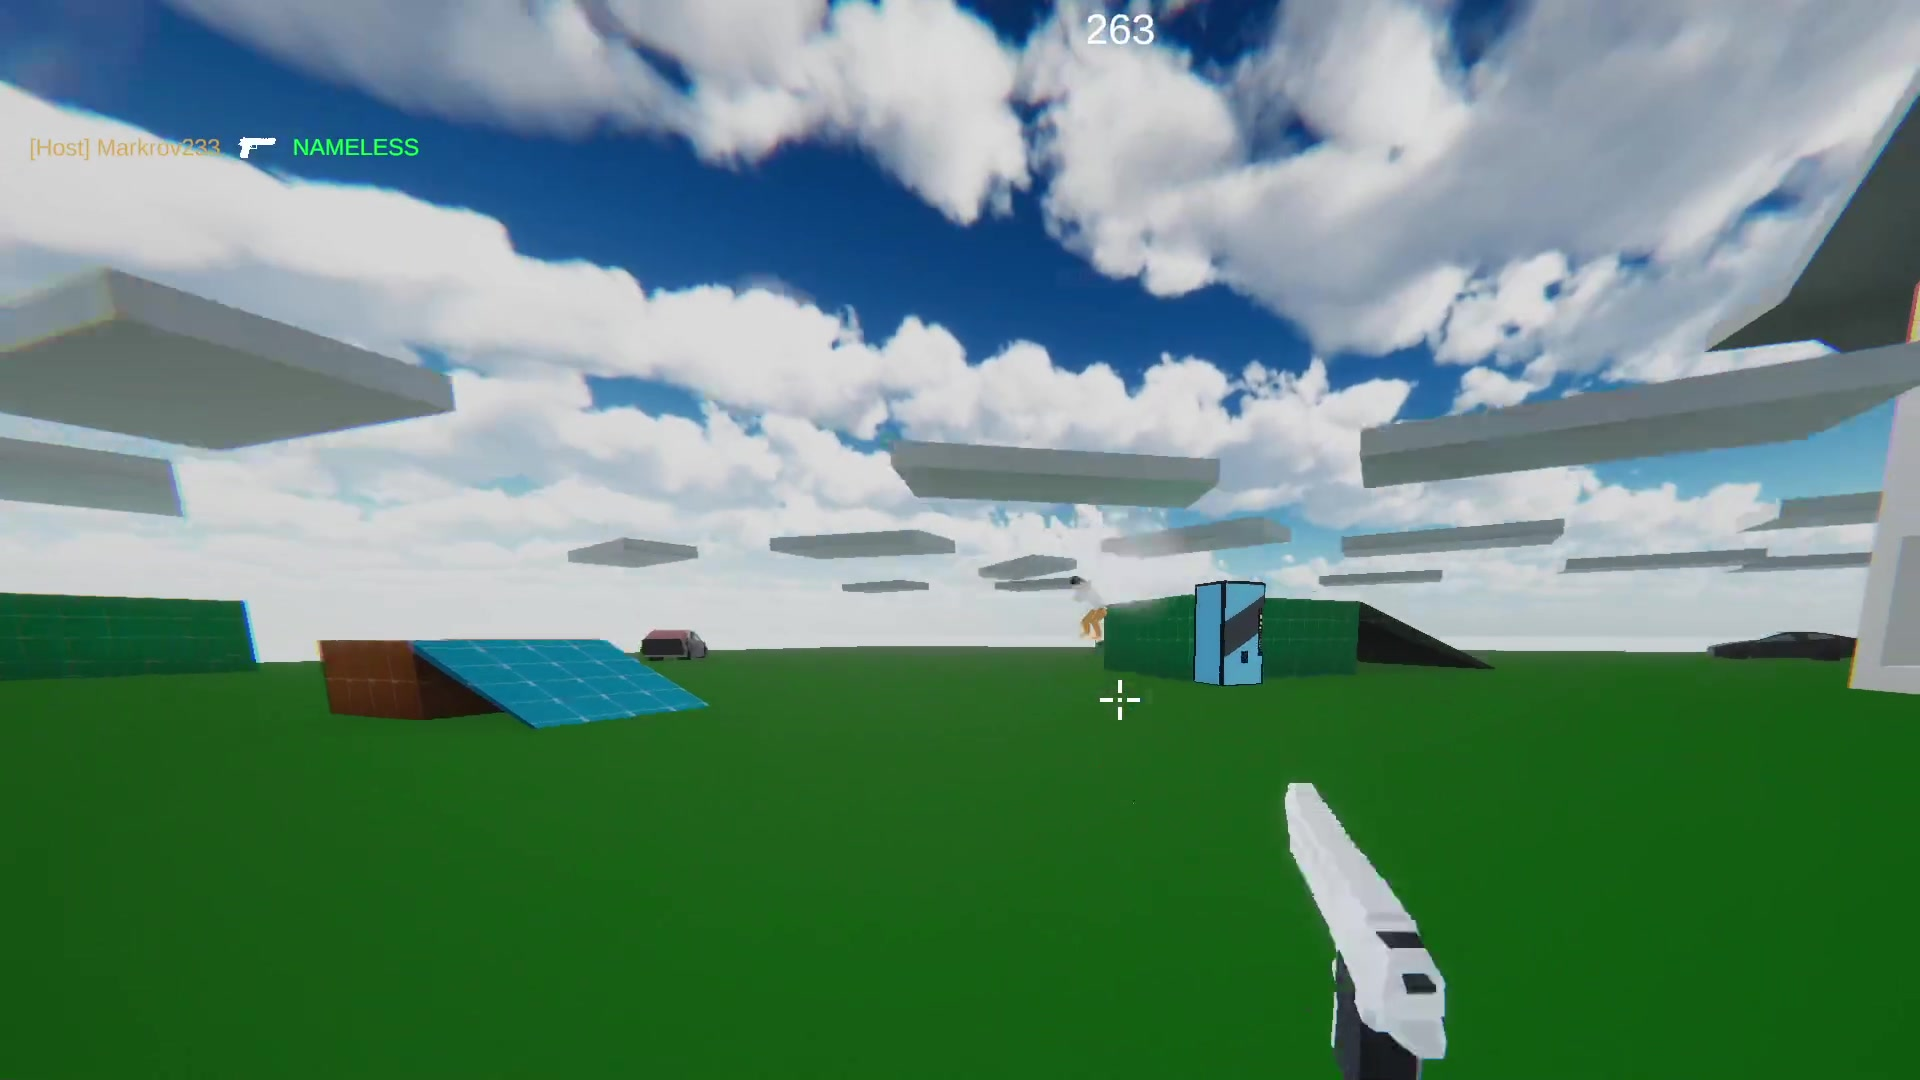human: (1080, 605, 1108, 645)
